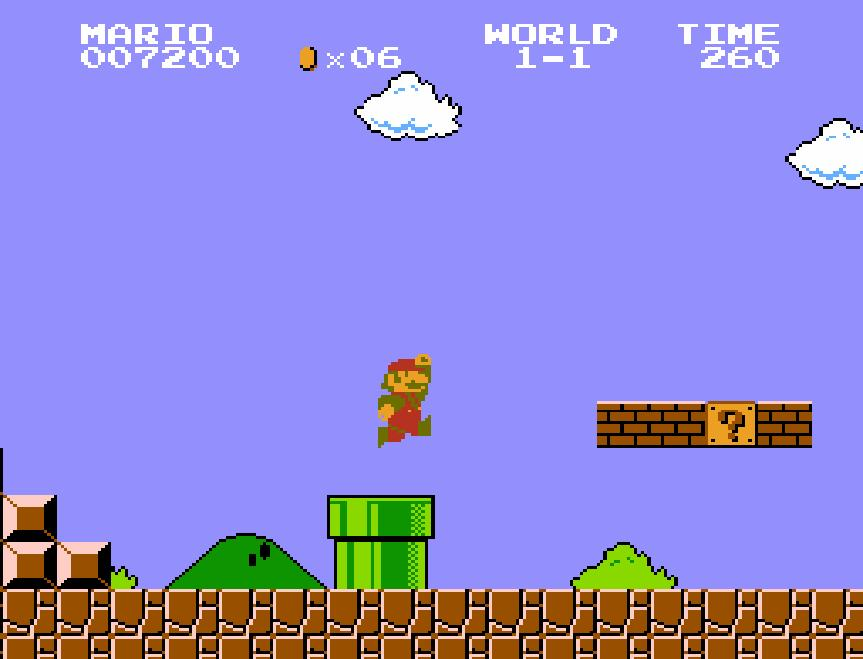big_mario: (376, 352, 434, 450)
